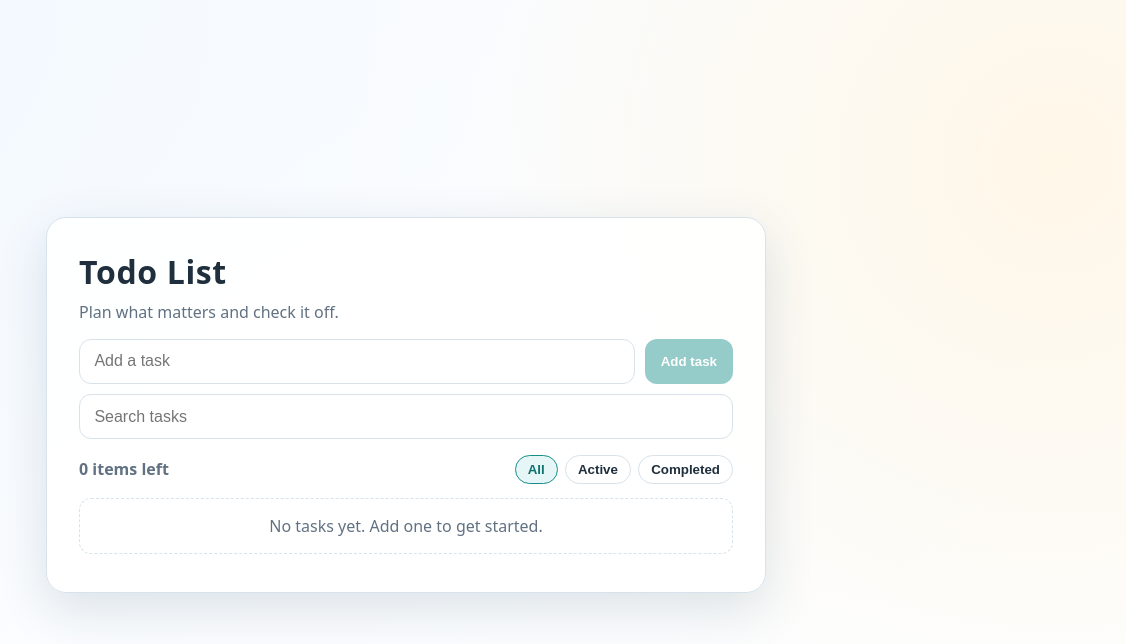
it: adds a todo item
In the field named "new task": [357, 361] box [79,339,635,384], type "Buy milk"
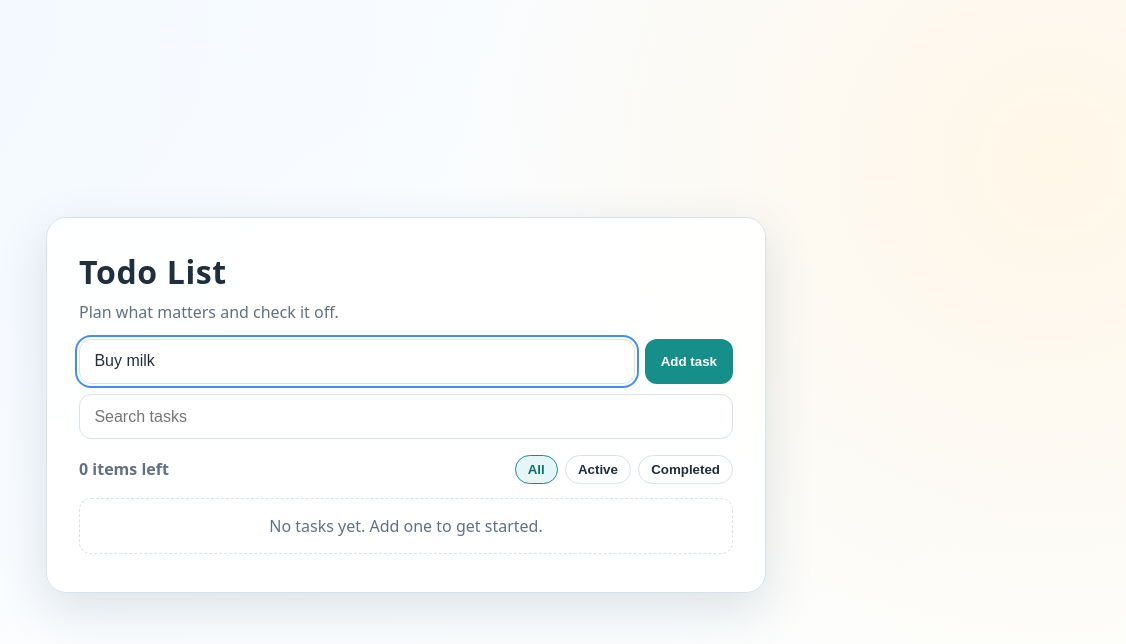
Click the button "Add task": [689, 361] box [645,339,733,384]
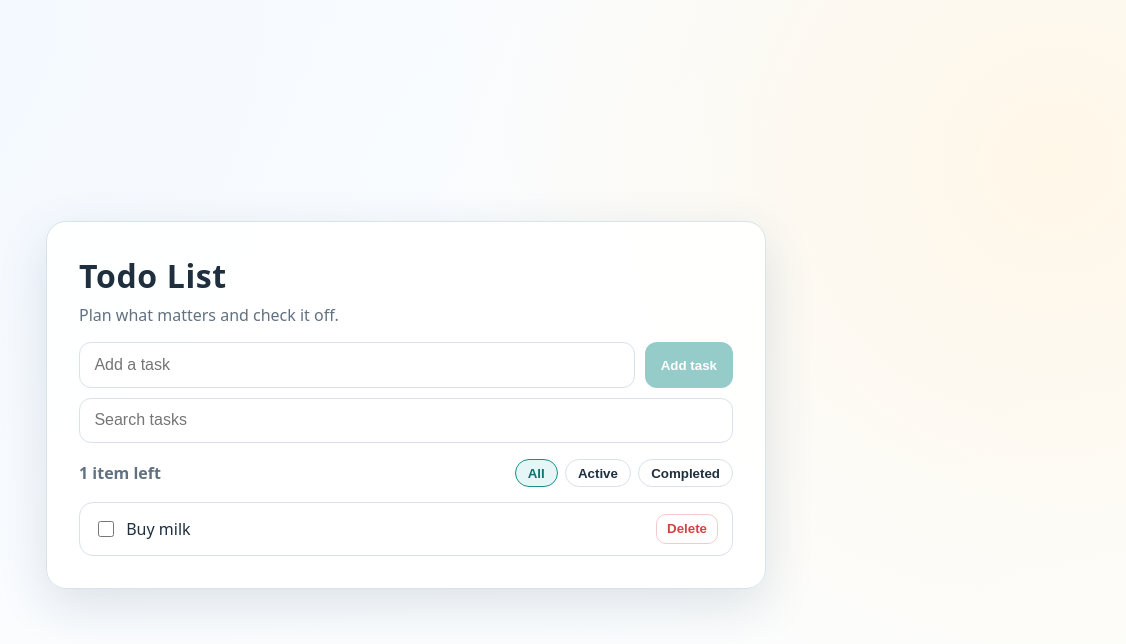
Check: the text "Buy milk" is shown, box [126,518,191,540]
